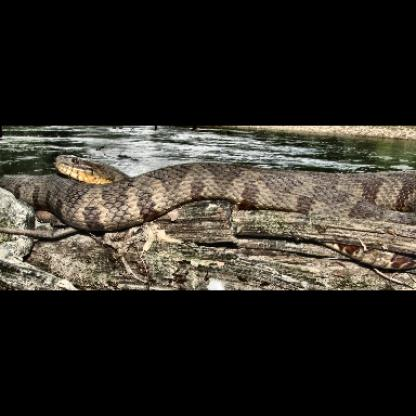Snake: (14, 126, 407, 251)
